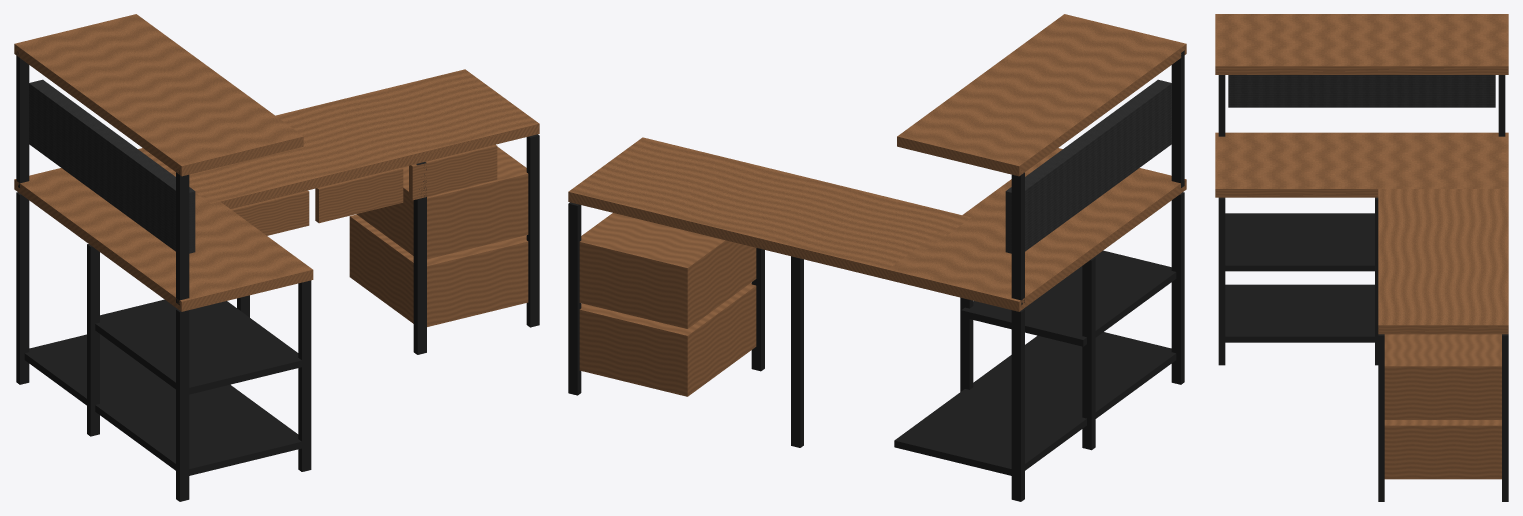
3 views of the same model, side by side, from view 1: azimuth 30°, elevation 25°; view 2: azimuth 150°, elevation 25°; view 3: azimuth 270°, elevation 25° (orthographic). The views are drawn at different scales.
Parts seen in each view (by area): view 1: 3 top hutch shelf, 1 main desktop, 2 return desktop, 13 bottom storage shelf, 6 hutch storage pouch, 11 lower right drawer, 12 middle storage shelf, 10 upper right drawer, 8 top middle drawer, 9 top right drawer, 14 front left leg, 18 back left leg (+7 smaller); view 2: 1 main desktop, 3 top hutch shelf, 13 bottom storage shelf, 2 return desktop, 10 upper right drawer, 11 lower right drawer, 6 hutch storage pouch, 12 middle storage shelf, 18 back left leg, 16 mid left leg, 14 front left leg, 19 back center leg (+5 smaller); view 3: 1 main desktop, 2 return desktop, 3 top hutch shelf, 10 upper right drawer, 12 middle storage shelf, 13 bottom storage shelf, 6 hutch storage pouch, 11 lower right drawer, 15 front return leg, 21 cabinet front right leg, 22 cabinet back right leg, 17 inner corner leg (+2 smaller).
Boxes of the visible parts, x1=… form: 3 top hutch shelf: x1=14, y1=14, x2=303, y2=176; 1 main desktop: x1=138, y1=69, x2=539, y2=208; 2 return desktop: x1=14, y1=168, x2=313, y2=311; 13 bottom storage shelf: x1=24, y1=334, x2=306, y2=476; 6 hutch storage pouch: x1=29, y1=79, x2=195, y2=253; 11 lower right drawer: x1=349, y1=214, x2=528, y2=326; 12 middle storage shelf: x1=95, y1=299, x2=306, y2=395; 10 upper right drawer: x1=356, y1=146, x2=528, y2=259; 8 top middle drawer: x1=315, y1=167, x2=403, y2=223; 9 top right drawer: x1=409, y1=144, x2=497, y2=200; 14 front left leg: x1=176, y1=309, x2=189, y2=501; 18 back left leg: x1=16, y1=192, x2=29, y2=384; 1 main desktop: x1=568, y1=137, x2=970, y2=281; 3 top hutch shelf: x1=897, y1=14, x2=1186, y2=176; 13 bottom storage shelf: x1=894, y1=332, x2=1176, y2=476; 2 return desktop: x1=888, y1=148, x2=1186, y2=311; 10 upper right drawer: x1=579, y1=213, x2=756, y2=328; 11 lower right drawer: x1=579, y1=282, x2=756, y2=396; 6 hutch storage pouch: x1=1005, y1=79, x2=1171, y2=253; 12 middle storage shelf: x1=961, y1=250, x2=1176, y2=346; 18 back left leg: x1=1011, y1=309, x2=1024, y2=501; 16 mid left leg: x1=1082, y1=257, x2=1095, y2=450; 14 front left leg: x1=1171, y1=192, x2=1184, y2=384; 19 back center leg: x1=791, y1=256, x2=803, y2=447; 1 main desktop: x1=1378, y1=189, x2=1508, y2=334; 2 return desktop: x1=1215, y1=132, x2=1508, y2=197; 3 top hutch shelf: x1=1215, y1=14, x2=1508, y2=74; 10 upper right drawer: x1=1384, y1=334, x2=1501, y2=419; 12 middle storage shelf: x1=1225, y1=213, x2=1374, y2=271; 13 bottom storage shelf: x1=1225, y1=284, x2=1374, y2=342; 6 hutch storage pouch: x1=1228, y1=75, x2=1495, y2=107; 11 lower right drawer: x1=1384, y1=420, x2=1501, y2=479; 15 front return leg: x1=1218, y1=197, x2=1225, y2=365; 21 cabinet front right leg: x1=1378, y1=334, x2=1384, y2=501; 22 cabinet back right leg: x1=1502, y1=334, x2=1508, y2=501; 17 inner corner leg: x1=1375, y1=197, x2=1378, y2=365.
Bounding box in the file's own units: 1.4 × 1 × 0.9.
Materials: 3 (2 with a texture image).
